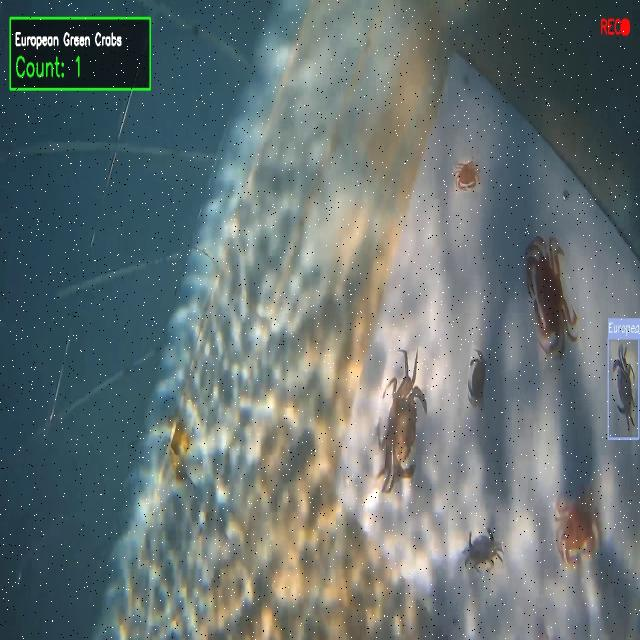European_Green_Crab: (362, 329, 440, 495), (457, 517, 507, 586), (610, 340, 639, 433)
